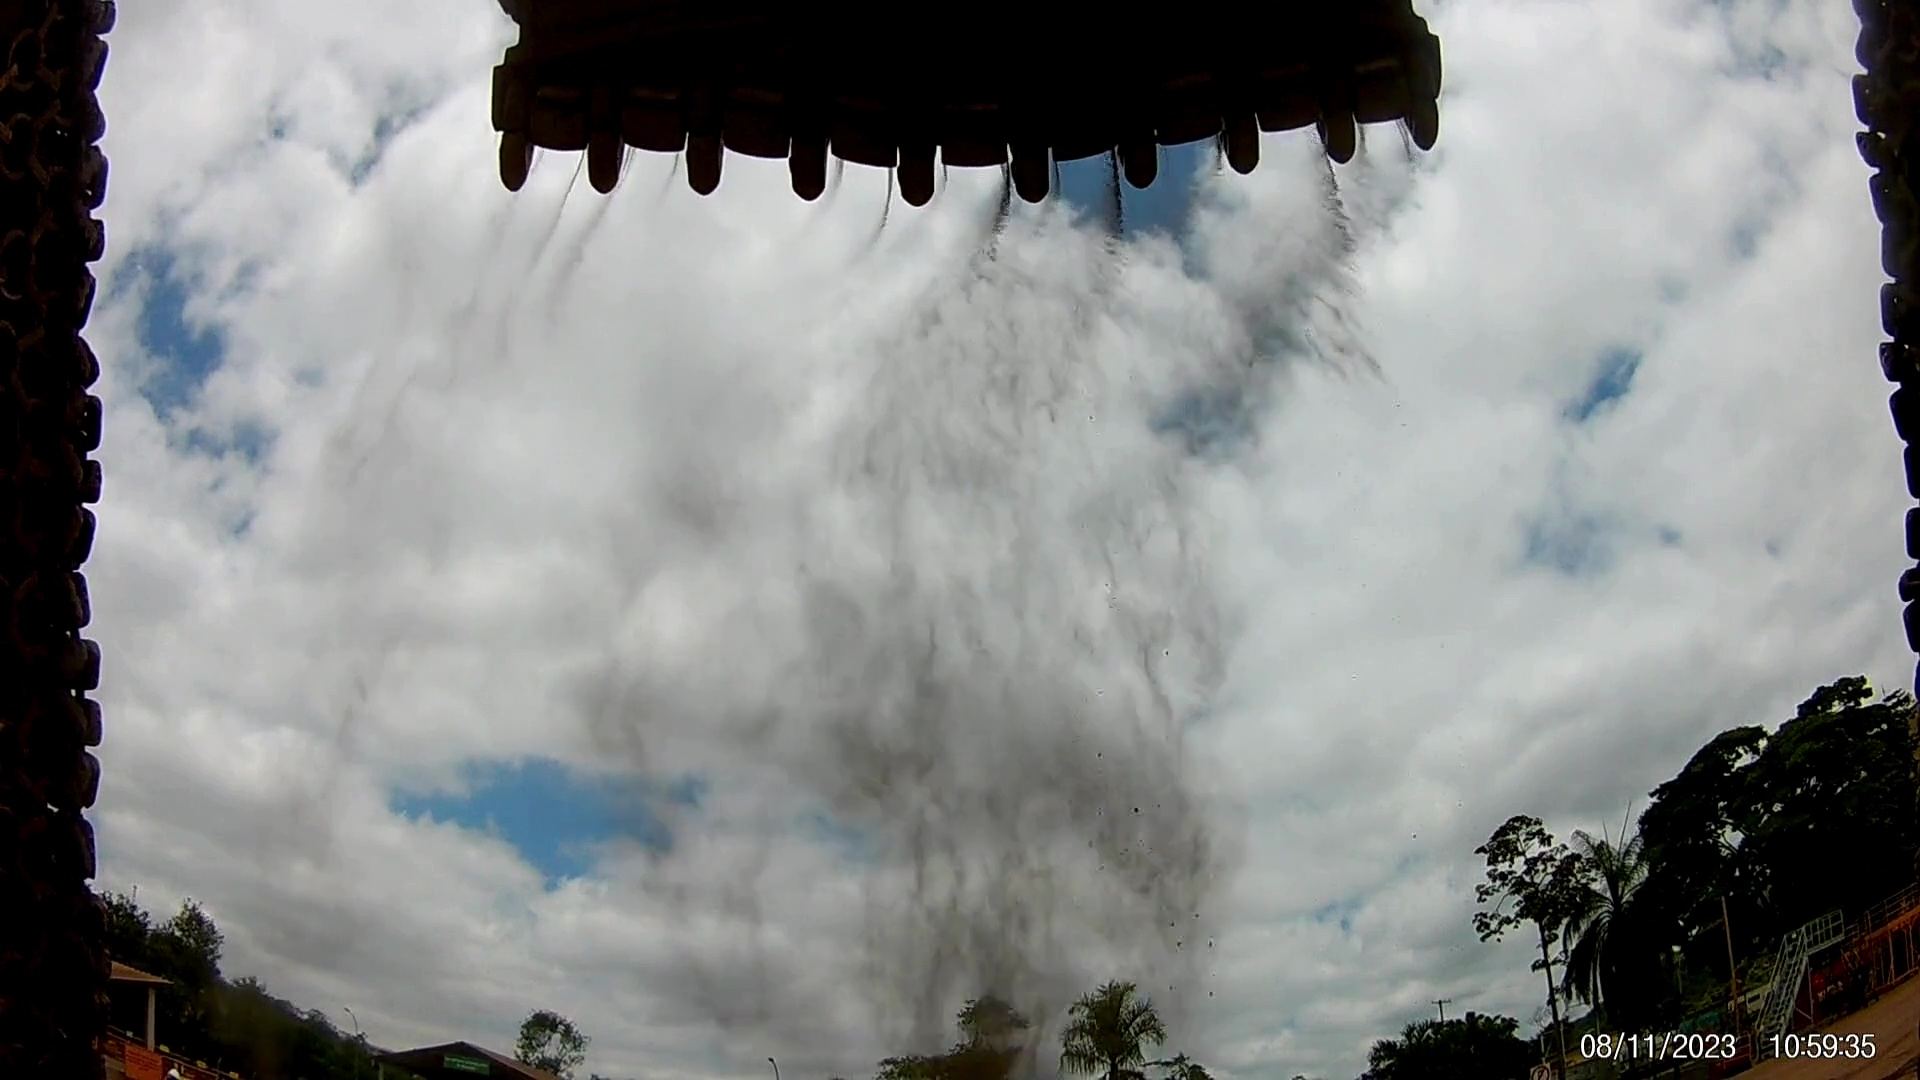FPS: (463, 141, 545, 212), (889, 119, 951, 210), (1118, 124, 1182, 207), (773, 136, 839, 207), (1001, 150, 1068, 215), (580, 129, 626, 212), (1393, 95, 1461, 150), (676, 124, 725, 198), (1236, 117, 1276, 191), (1317, 100, 1361, 165)
